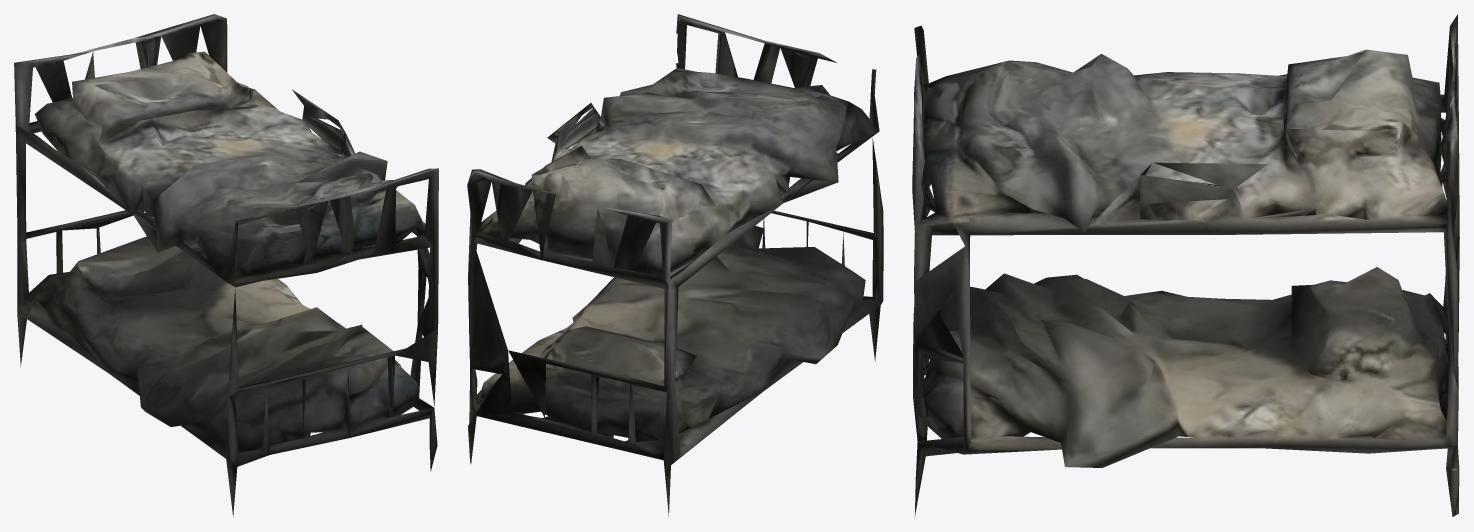
The model's file is e_bunk.glb.
The picture shows the model from 3 angles, left to right: view 1: azimuth 30°, elevation 25°; view 2: azimuth 150°, elevation 25°; view 3: azimuth 270°, elevation 25°; orthographic projection. The views are drawn at different scales.
Parts seen in each view (by area): view 1: tripo_node_f5c88d67-9bef-4a8b-a85b-2f58f0b9dd51; view 2: tripo_node_f5c88d67-9bef-4a8b-a85b-2f58f0b9dd51; view 3: tripo_node_f5c88d67-9bef-4a8b-a85b-2f58f0b9dd51.
Part boxes in pixels (box(x1,y1,x2,y2)): tripo_node_f5c88d67-9bef-4a8b-a85b-2f58f0b9dd51: box(14, 14, 438, 516); tripo_node_f5c88d67-9bef-4a8b-a85b-2f58f0b9dd51: box(467, 14, 883, 516); tripo_node_f5c88d67-9bef-4a8b-a85b-2f58f0b9dd51: box(912, 14, 1459, 517).
Size of the model in its own units: 0.6523 by 0.7756 by 1.
Materials: 1 (1 with a texture image).
